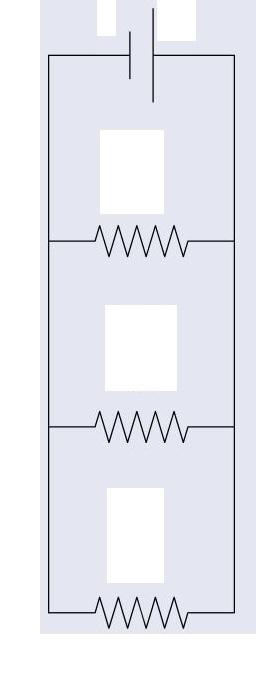resistor: (29, 377, 227, 457), (69, 208, 215, 301), (52, 587, 229, 645)
